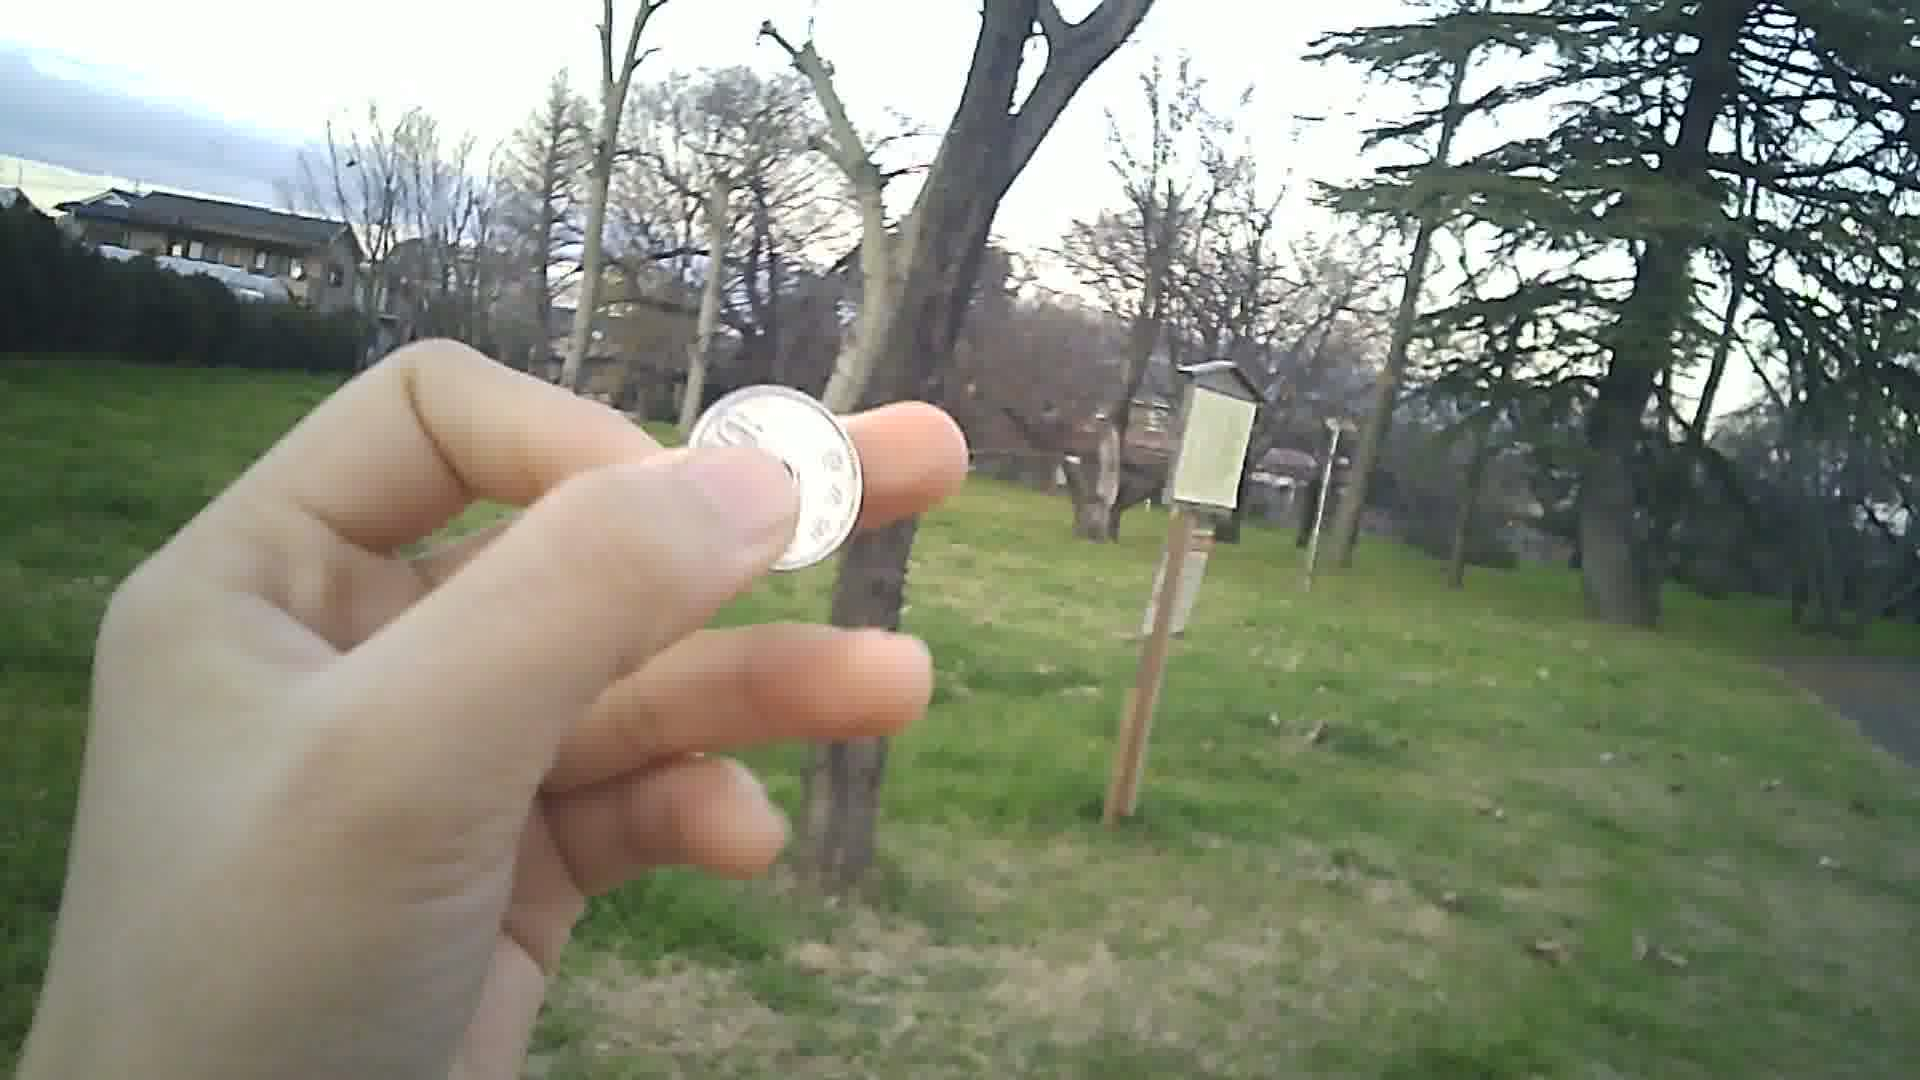50 Yen: (686, 382, 868, 572)
